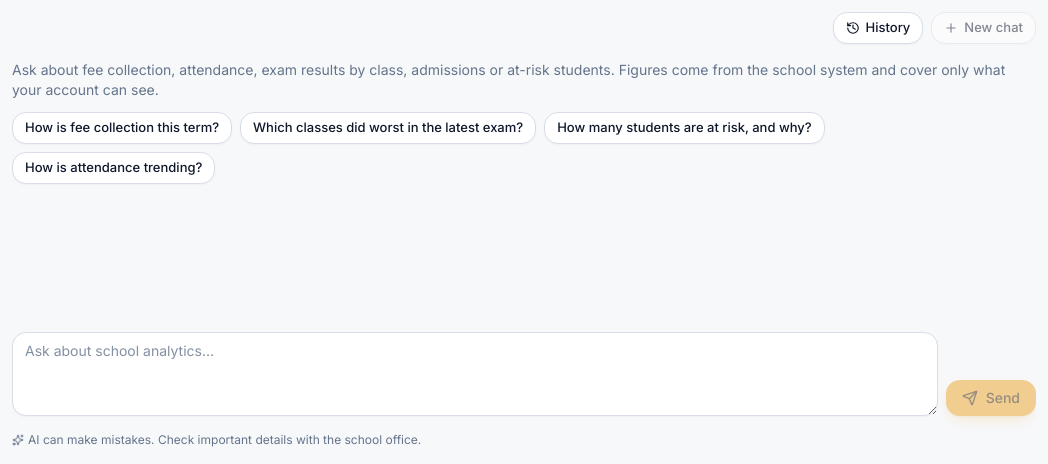
AssistantChat streaming › talks to the analytics assistant in analytics mode, without a child switcher
Click the button "How is fee collection this term?". click: (122, 128)
box: [12,112,232,144]
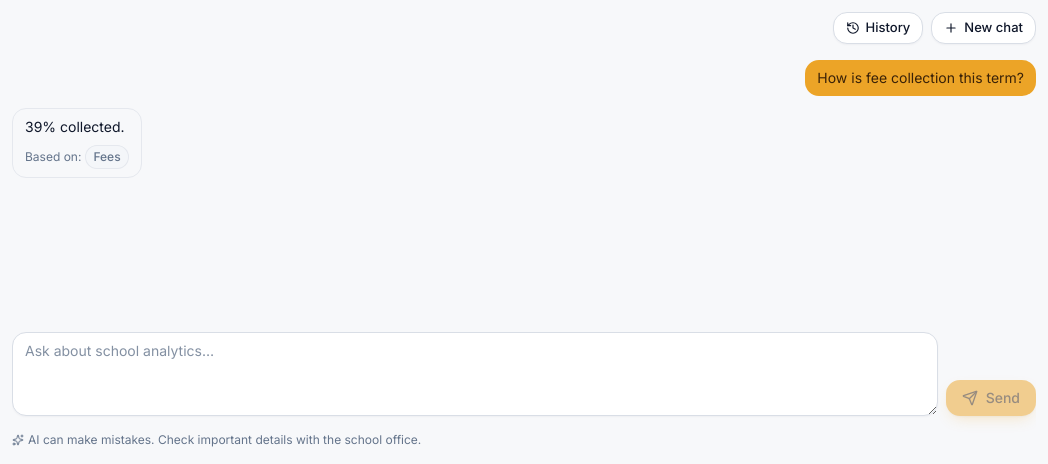
Result: the text "39% collected." is shown at [25,117,129,137]
